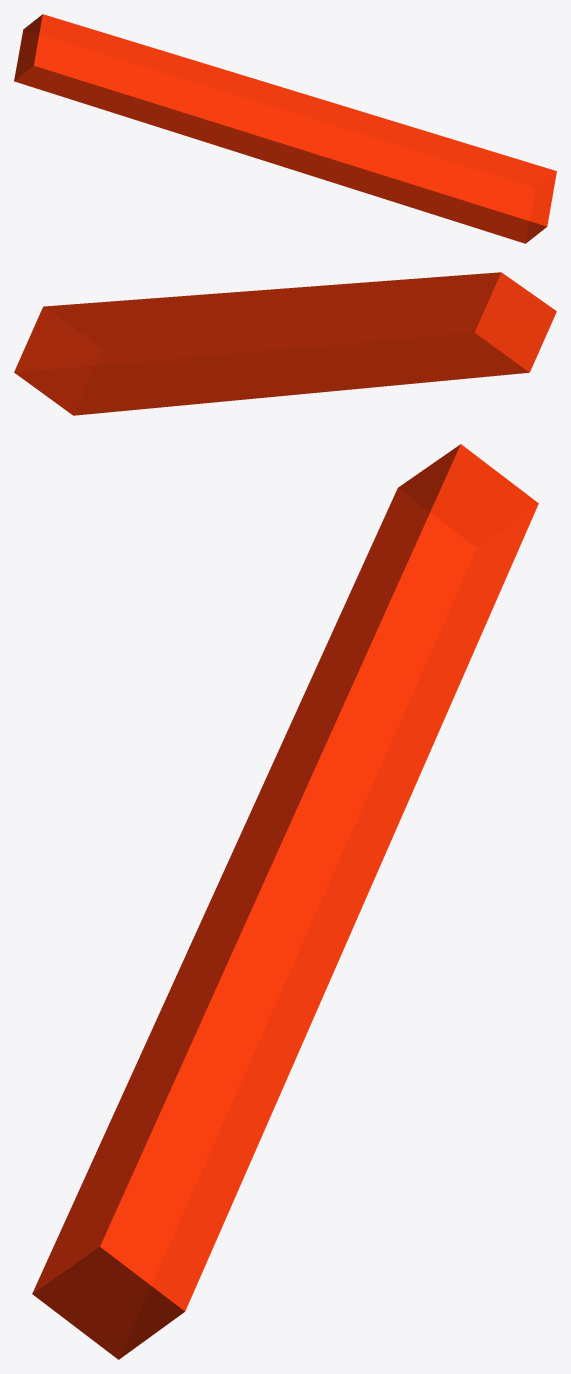
Rendered from Event_421278790_EBrechit_27.fbx.
The picture shows the model from 3 angles, top to bottom: view 1: azimuth 30°, elevation 25°; view 2: azimuth 150°, elevation 25°; view 3: azimuth 270°, elevation 25°; orthographic projection. The views are drawn at different scales.
Visible parts, largest first — view 1: Model; view 2: Model; view 3: Model.
Part boxes in pixels (<box>): Model: <box>14,14,556,243</box>; Model: <box>14,272,556,415</box>; Model: <box>32,444,538,1359</box>.
Size of the model in its own units: 0.5626 by 0.3164 by 0.2751.
